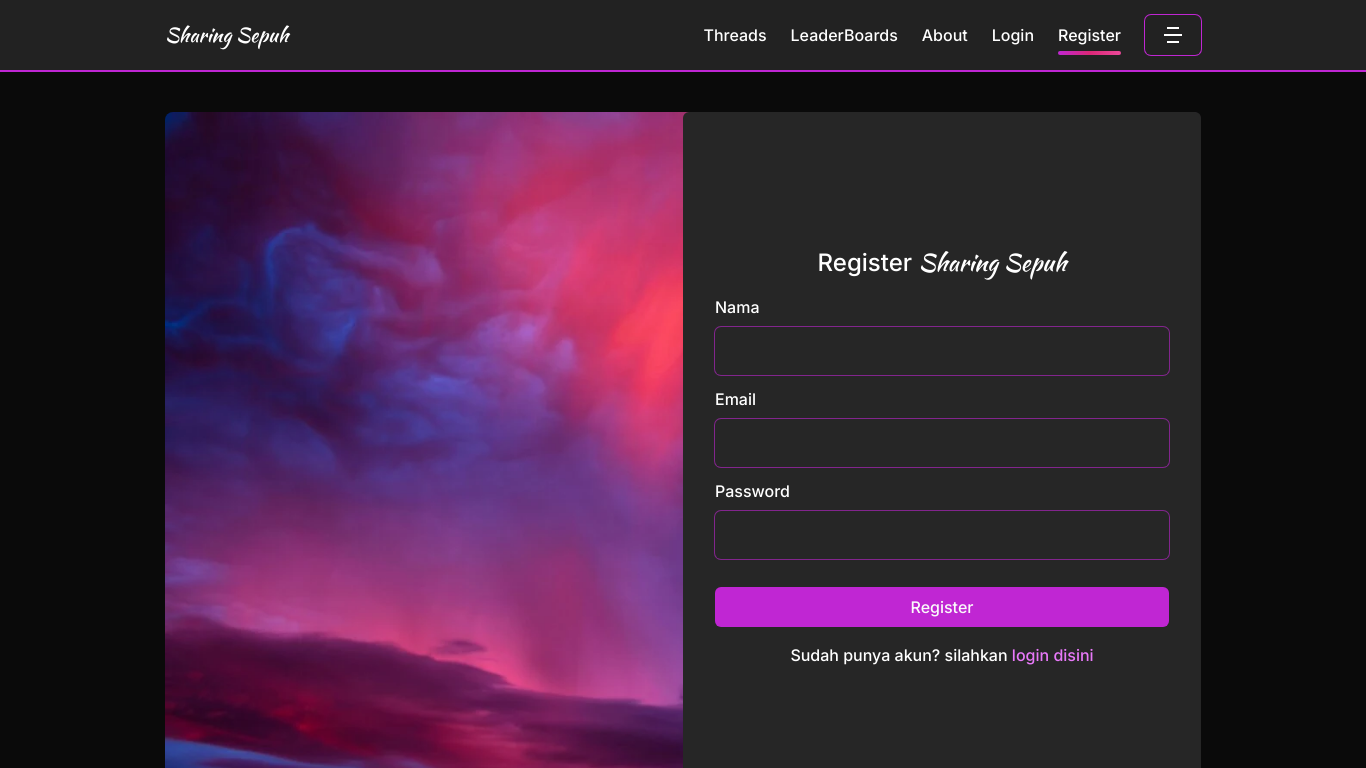
Scenario: Register spec › should display input note error and button Register disable when email is not valid pattern
In the field labelled "Email": (942, 443) x1=715 y1=419 x2=1169 y2=467, type "testuser@mail.i"
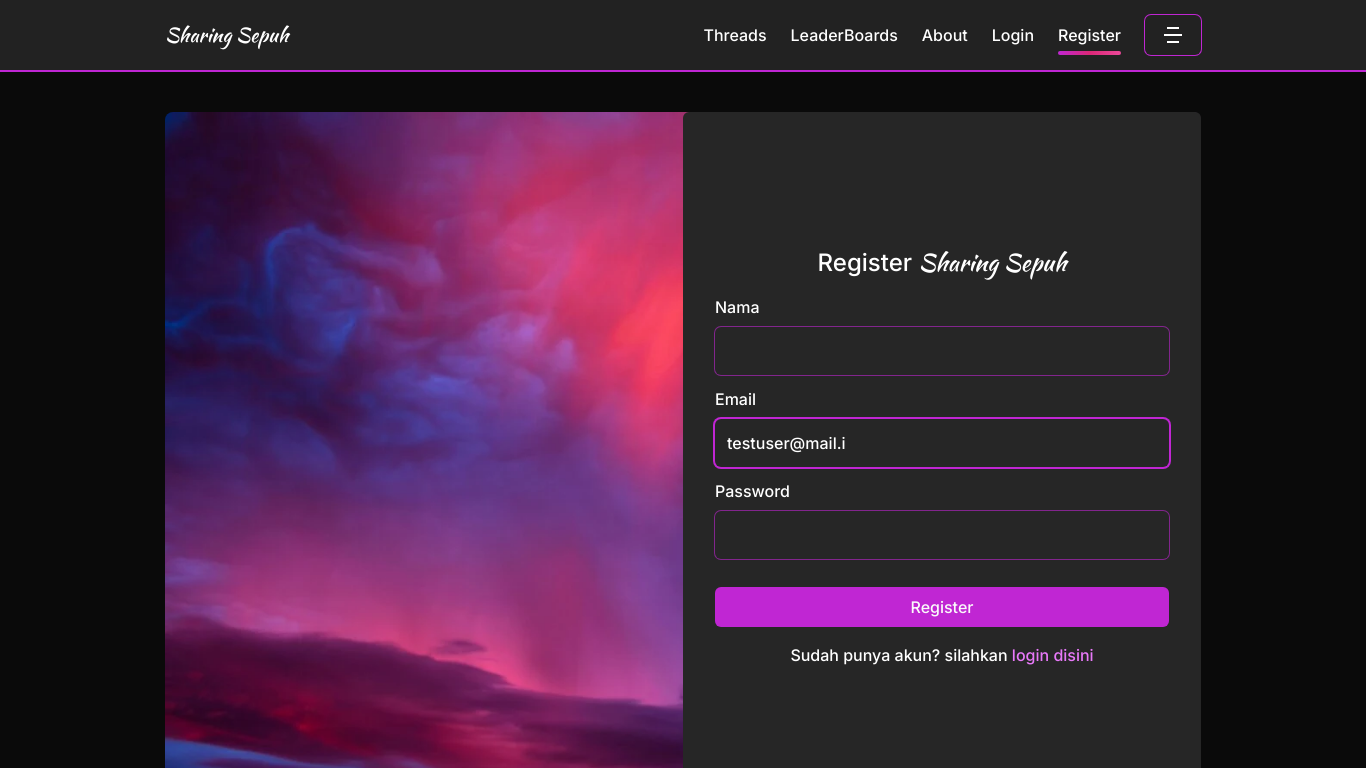
Submit the form, box x1=715 y1=295 x2=1169 y2=627
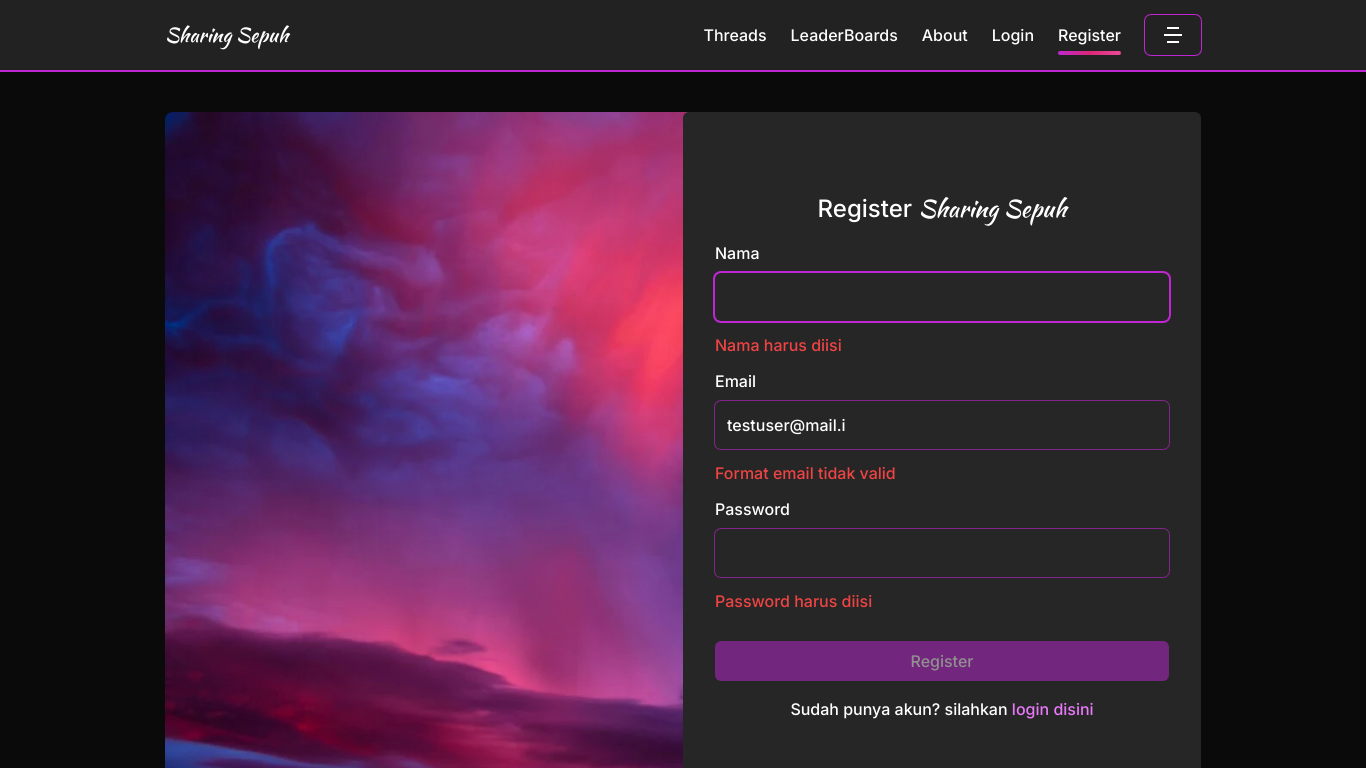
Expected: the button "Login" is disabled, x1=992 y1=23 x2=1034 y2=47
Result: the text "Password harus diisi" is shown at x1=715 y1=591 x2=872 y2=611
